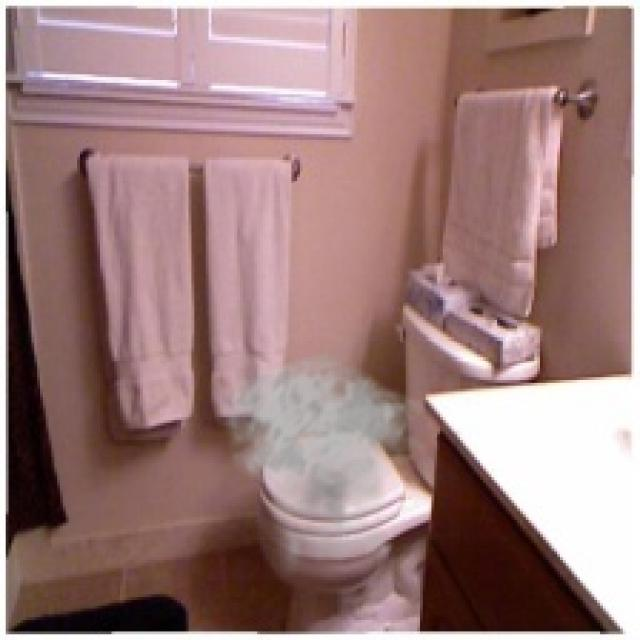smoke: (214, 352, 432, 577)
